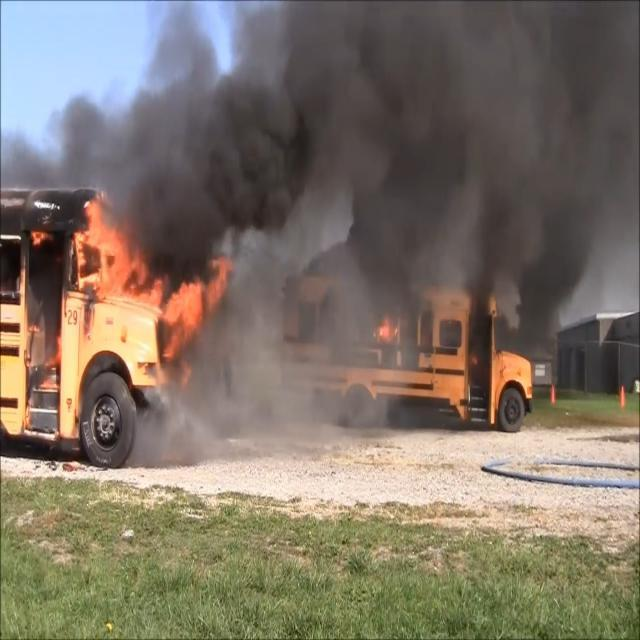Fire: (84, 248, 233, 334)
Smoke: (118, 26, 640, 238)
